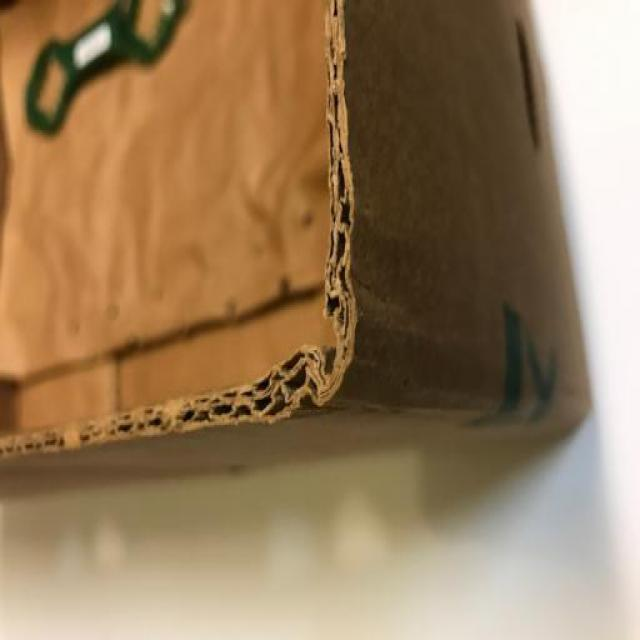cardboard: (1, 1, 597, 494)
